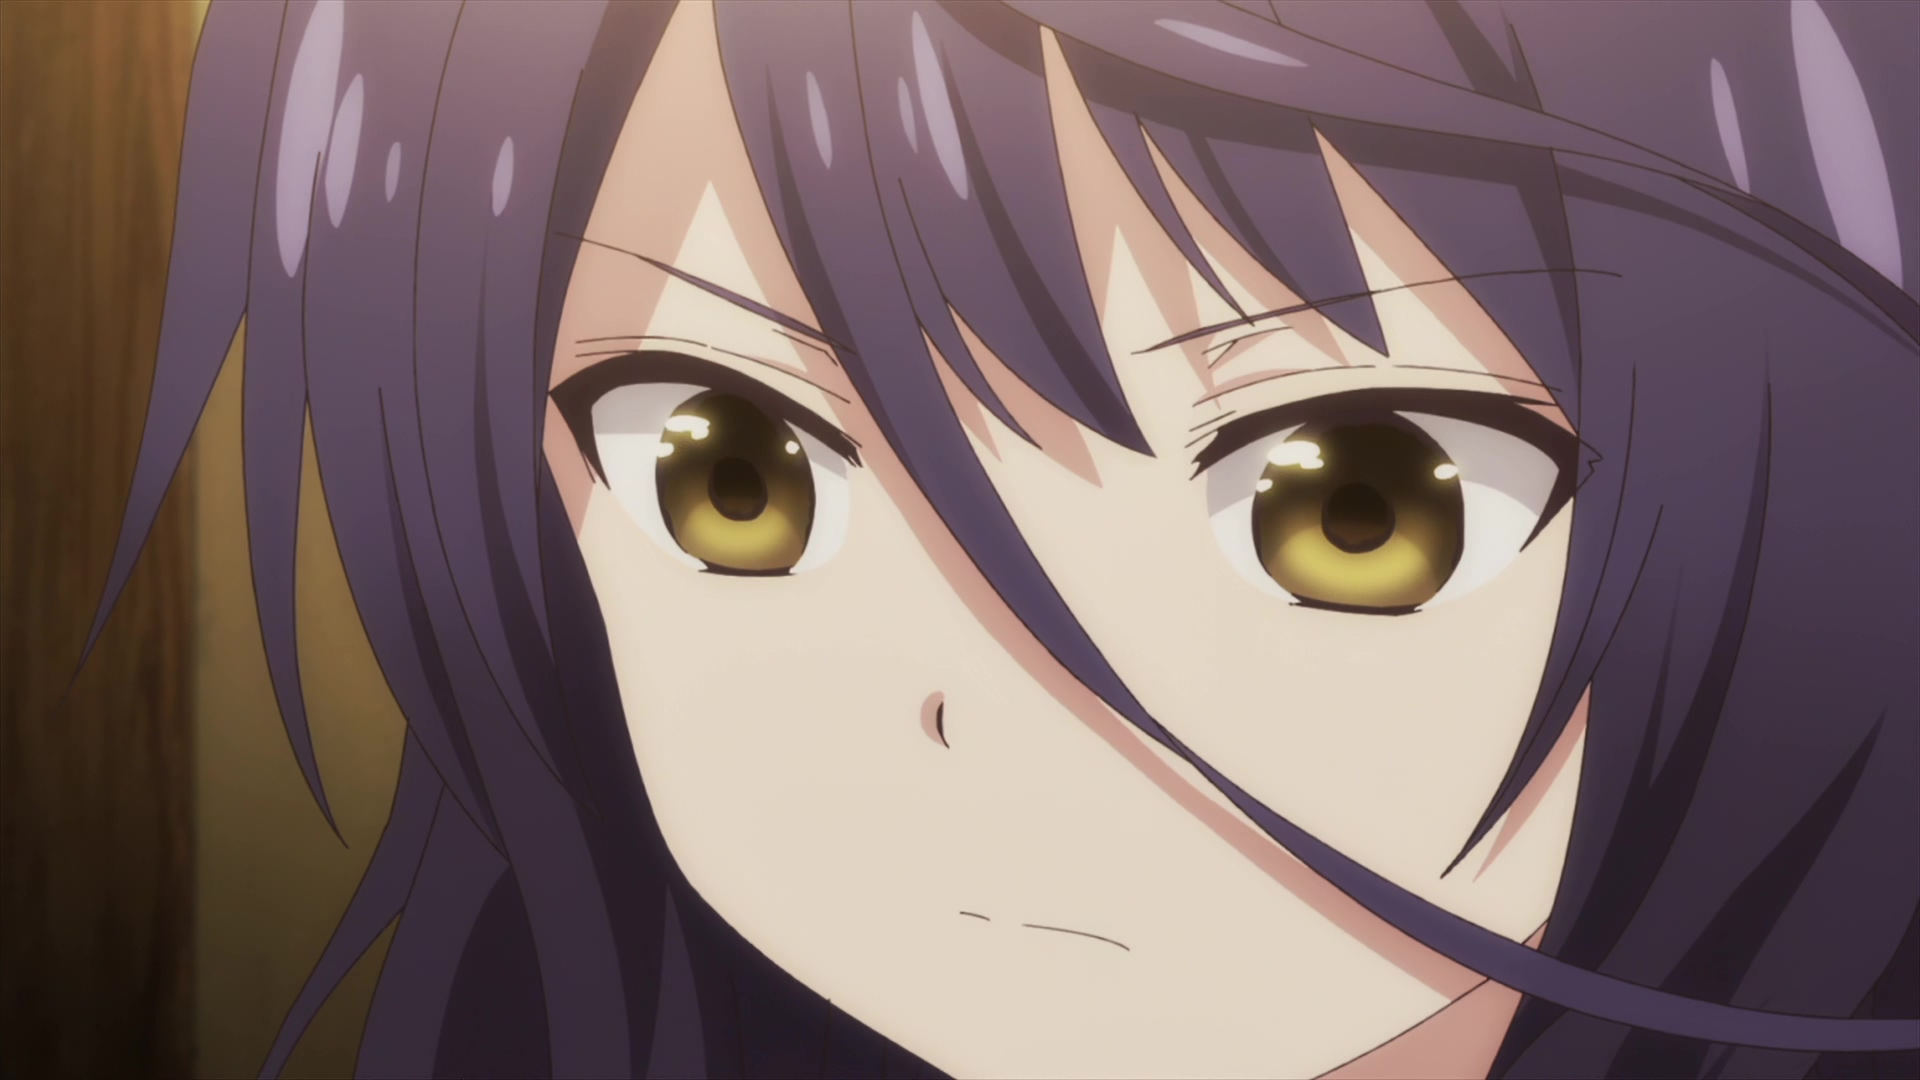皋: (61, 1, 1920, 1080)
